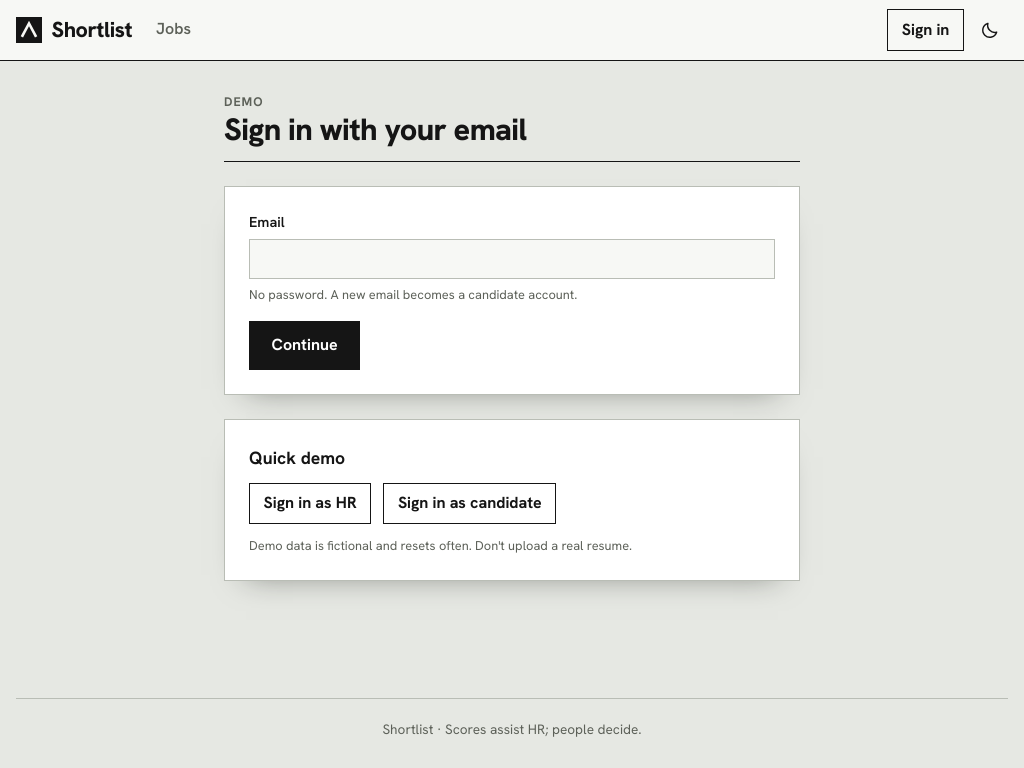
Scenario: sign in and sign up › in demo mode signs in by email alone, with no password field
Step 1. Type " asha@example.com " into the field labelled "Email" → {"x": 512, "y": 259}, box [249, 239, 775, 279]
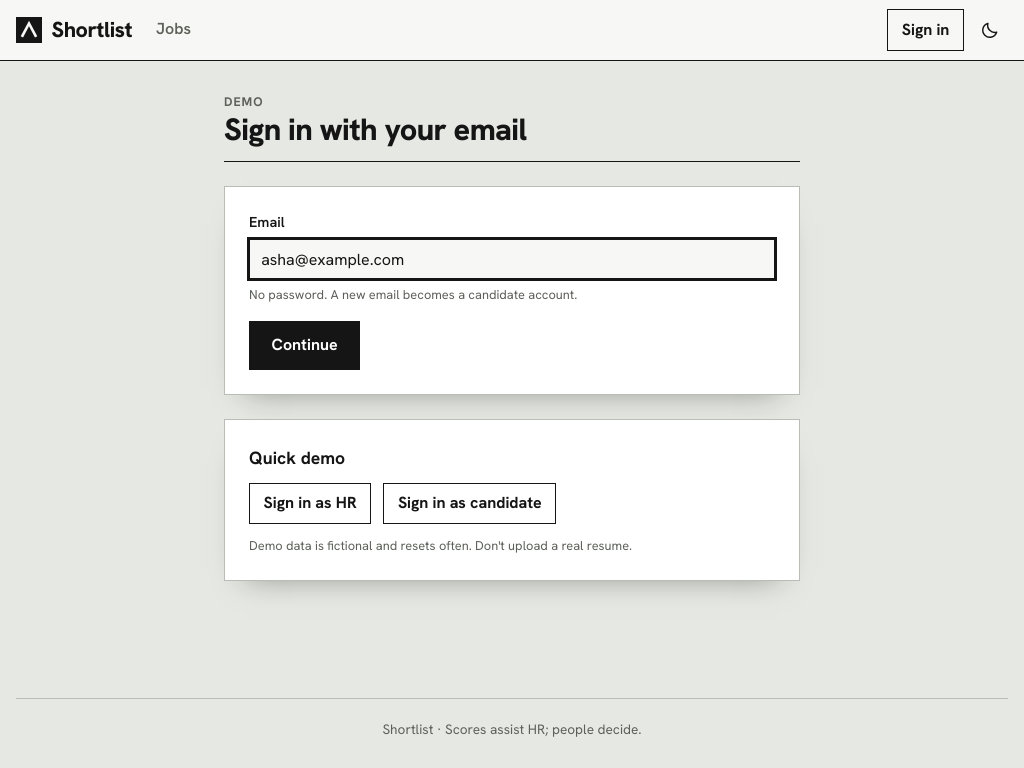
Step 2. Click the button "Continue" → {"x": 305, "y": 345}, box [249, 321, 360, 370]
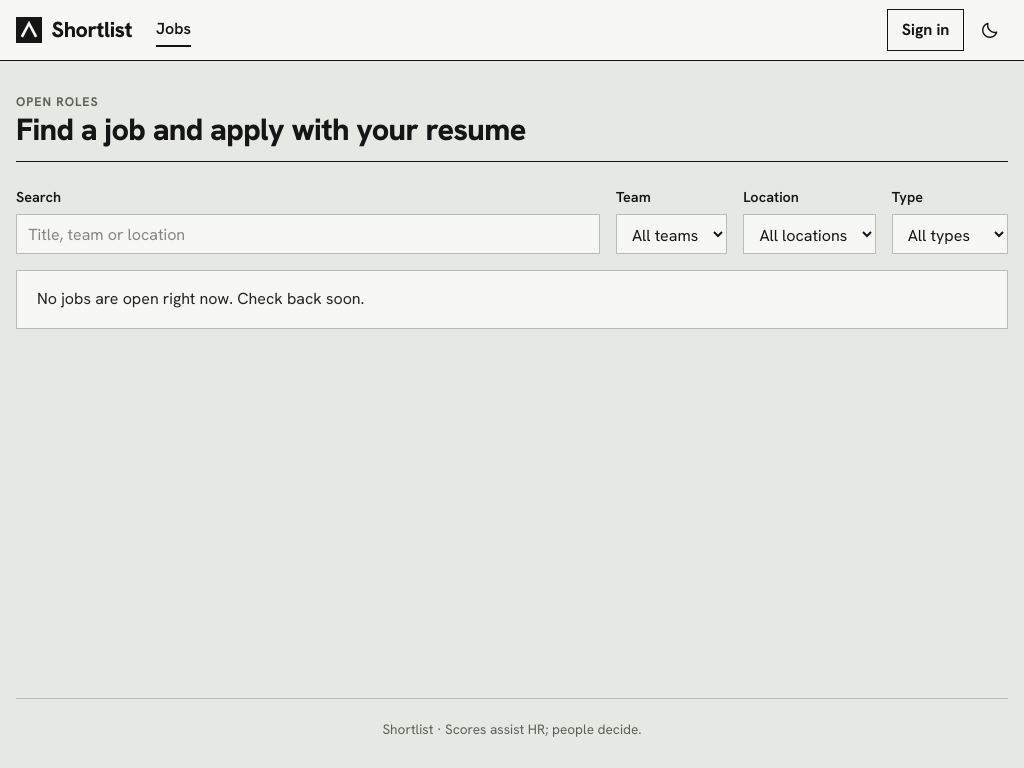
Expected: the text labelled "password" is gone
